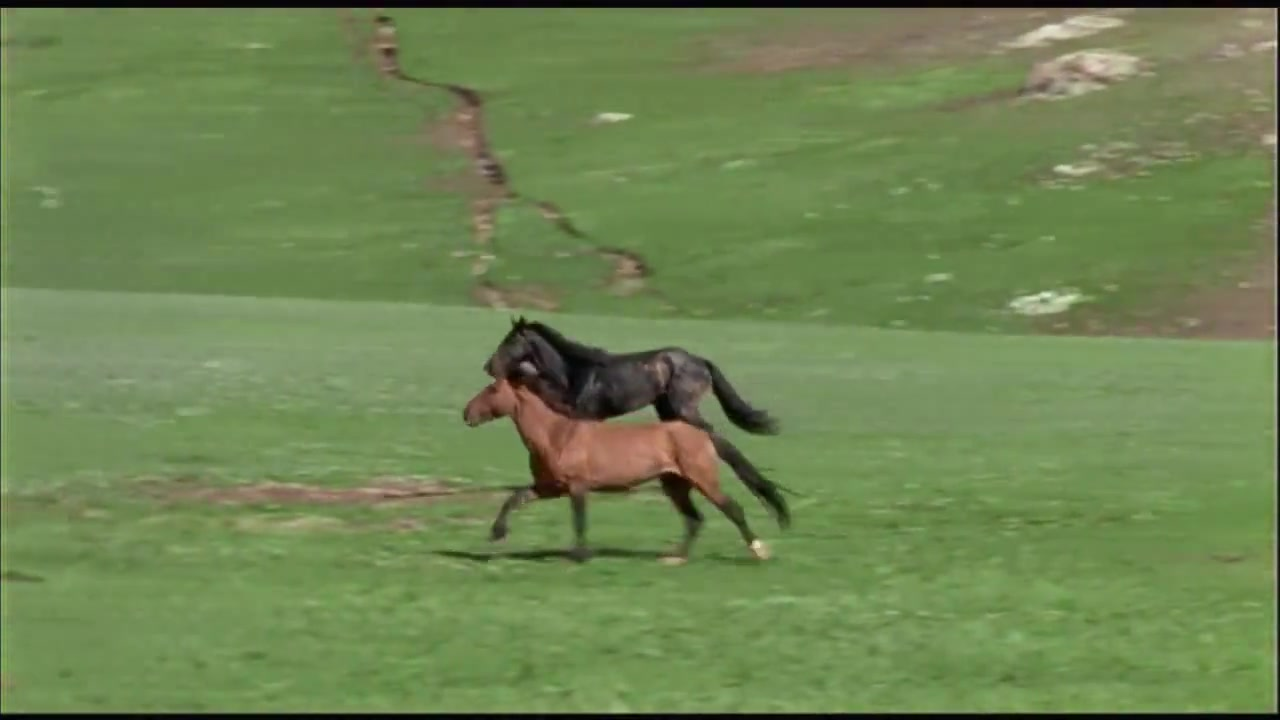horse: (461, 369, 808, 568)
